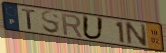1: (115, 21, 126, 44)
N: (123, 21, 149, 48)
R: (60, 13, 84, 39)
S: (40, 10, 62, 36)
T: (20, 7, 37, 31)
U: (82, 15, 106, 41)
